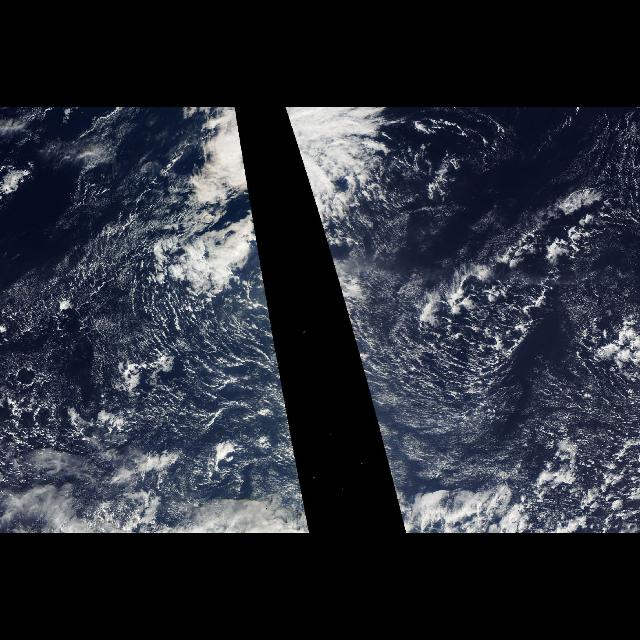Fish: (282, 110, 413, 300), (151, 110, 267, 300)
Gravel: (379, 176, 619, 420), (493, 437, 635, 533), (10, 350, 98, 464)
Sugar: (2, 185, 300, 483), (350, 314, 536, 488)
